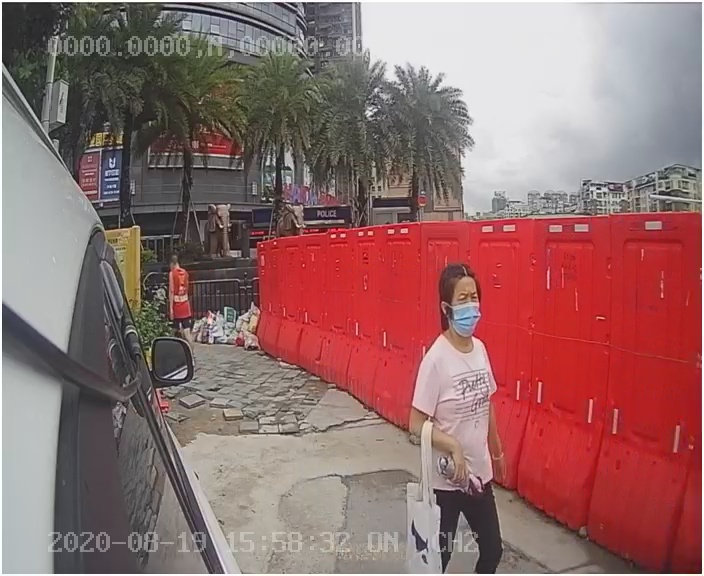person: (385, 259, 523, 535)
